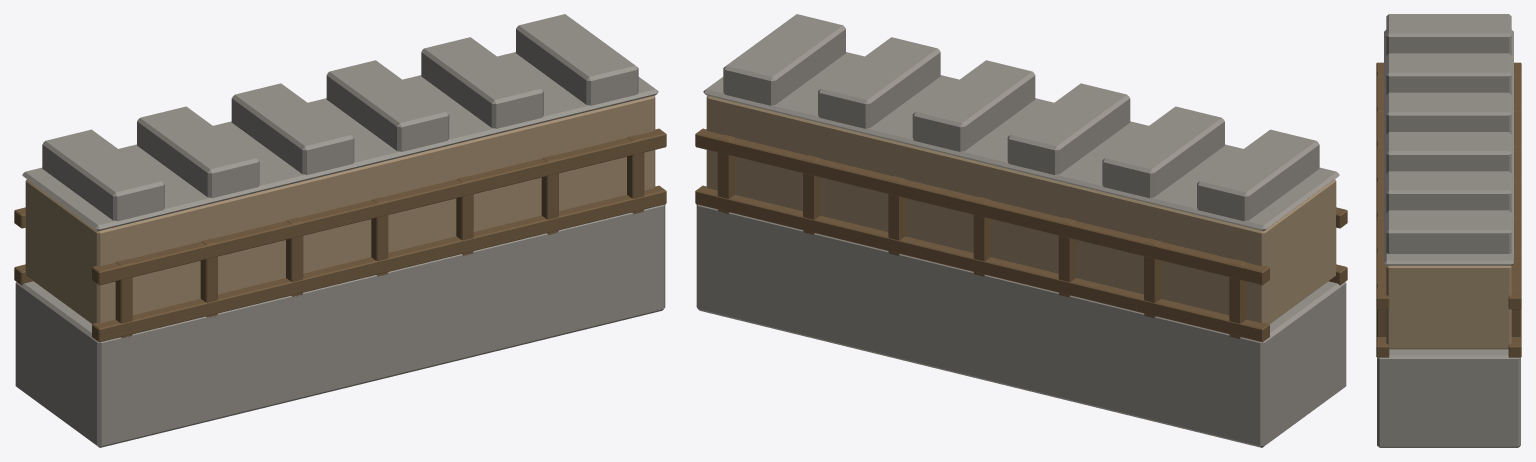
File: fort_wall.glb
3 renders of one model, left to right at view 1: azimuth 30°, elevation 25°; view 2: azimuth 150°, elevation 25°; view 3: azimuth 270°, elevation 25°, orthographic. The views are drawn at different scales.
Parts seen in each view (by area): view 1: stone, mud, wood; view 2: stone, mud, wood; view 3: stone, mud, wood.
Part boxes in pixels (x1,y1,x2,y2): stone: [15, 14, 665, 447]; mud: [25, 96, 655, 323]; wood: [14, 128, 666, 342]; stone: [696, 14, 1346, 447]; mud: [706, 96, 1336, 323]; wood: [695, 128, 1347, 342]; stone: [1377, 14, 1520, 447]; mud: [1386, 265, 1511, 349]; wood: [1376, 62, 1521, 357].
Bounding box in the file's own units: 12 × 4.97 × 3.12.
